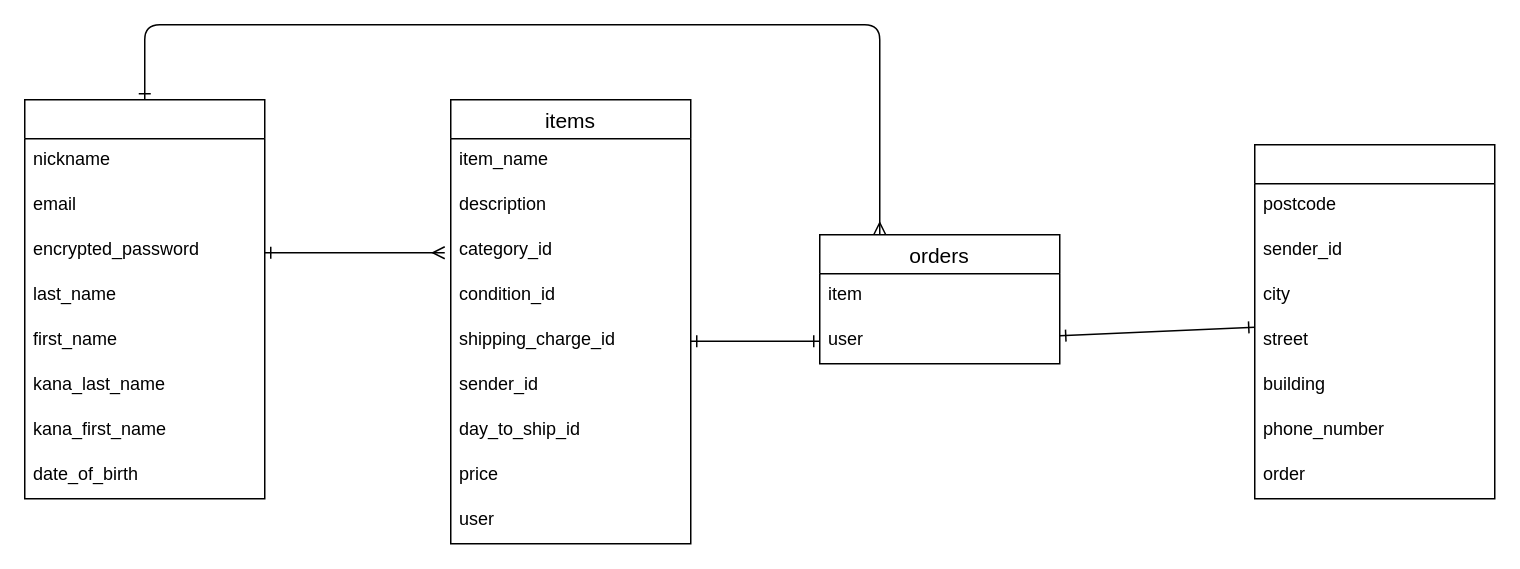
This 1520x569 diagram has some shape labels left out. The box of each missing label's shape, as (x1, y1, x2, y2) in pixels:
addresses: (1253, 143, 1495, 499)
users: (23, 98, 265, 499)
